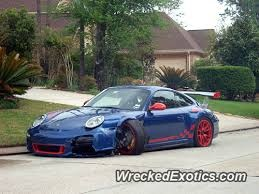Dent: (72, 132, 96, 155)
Scratch: (100, 126, 115, 137)
